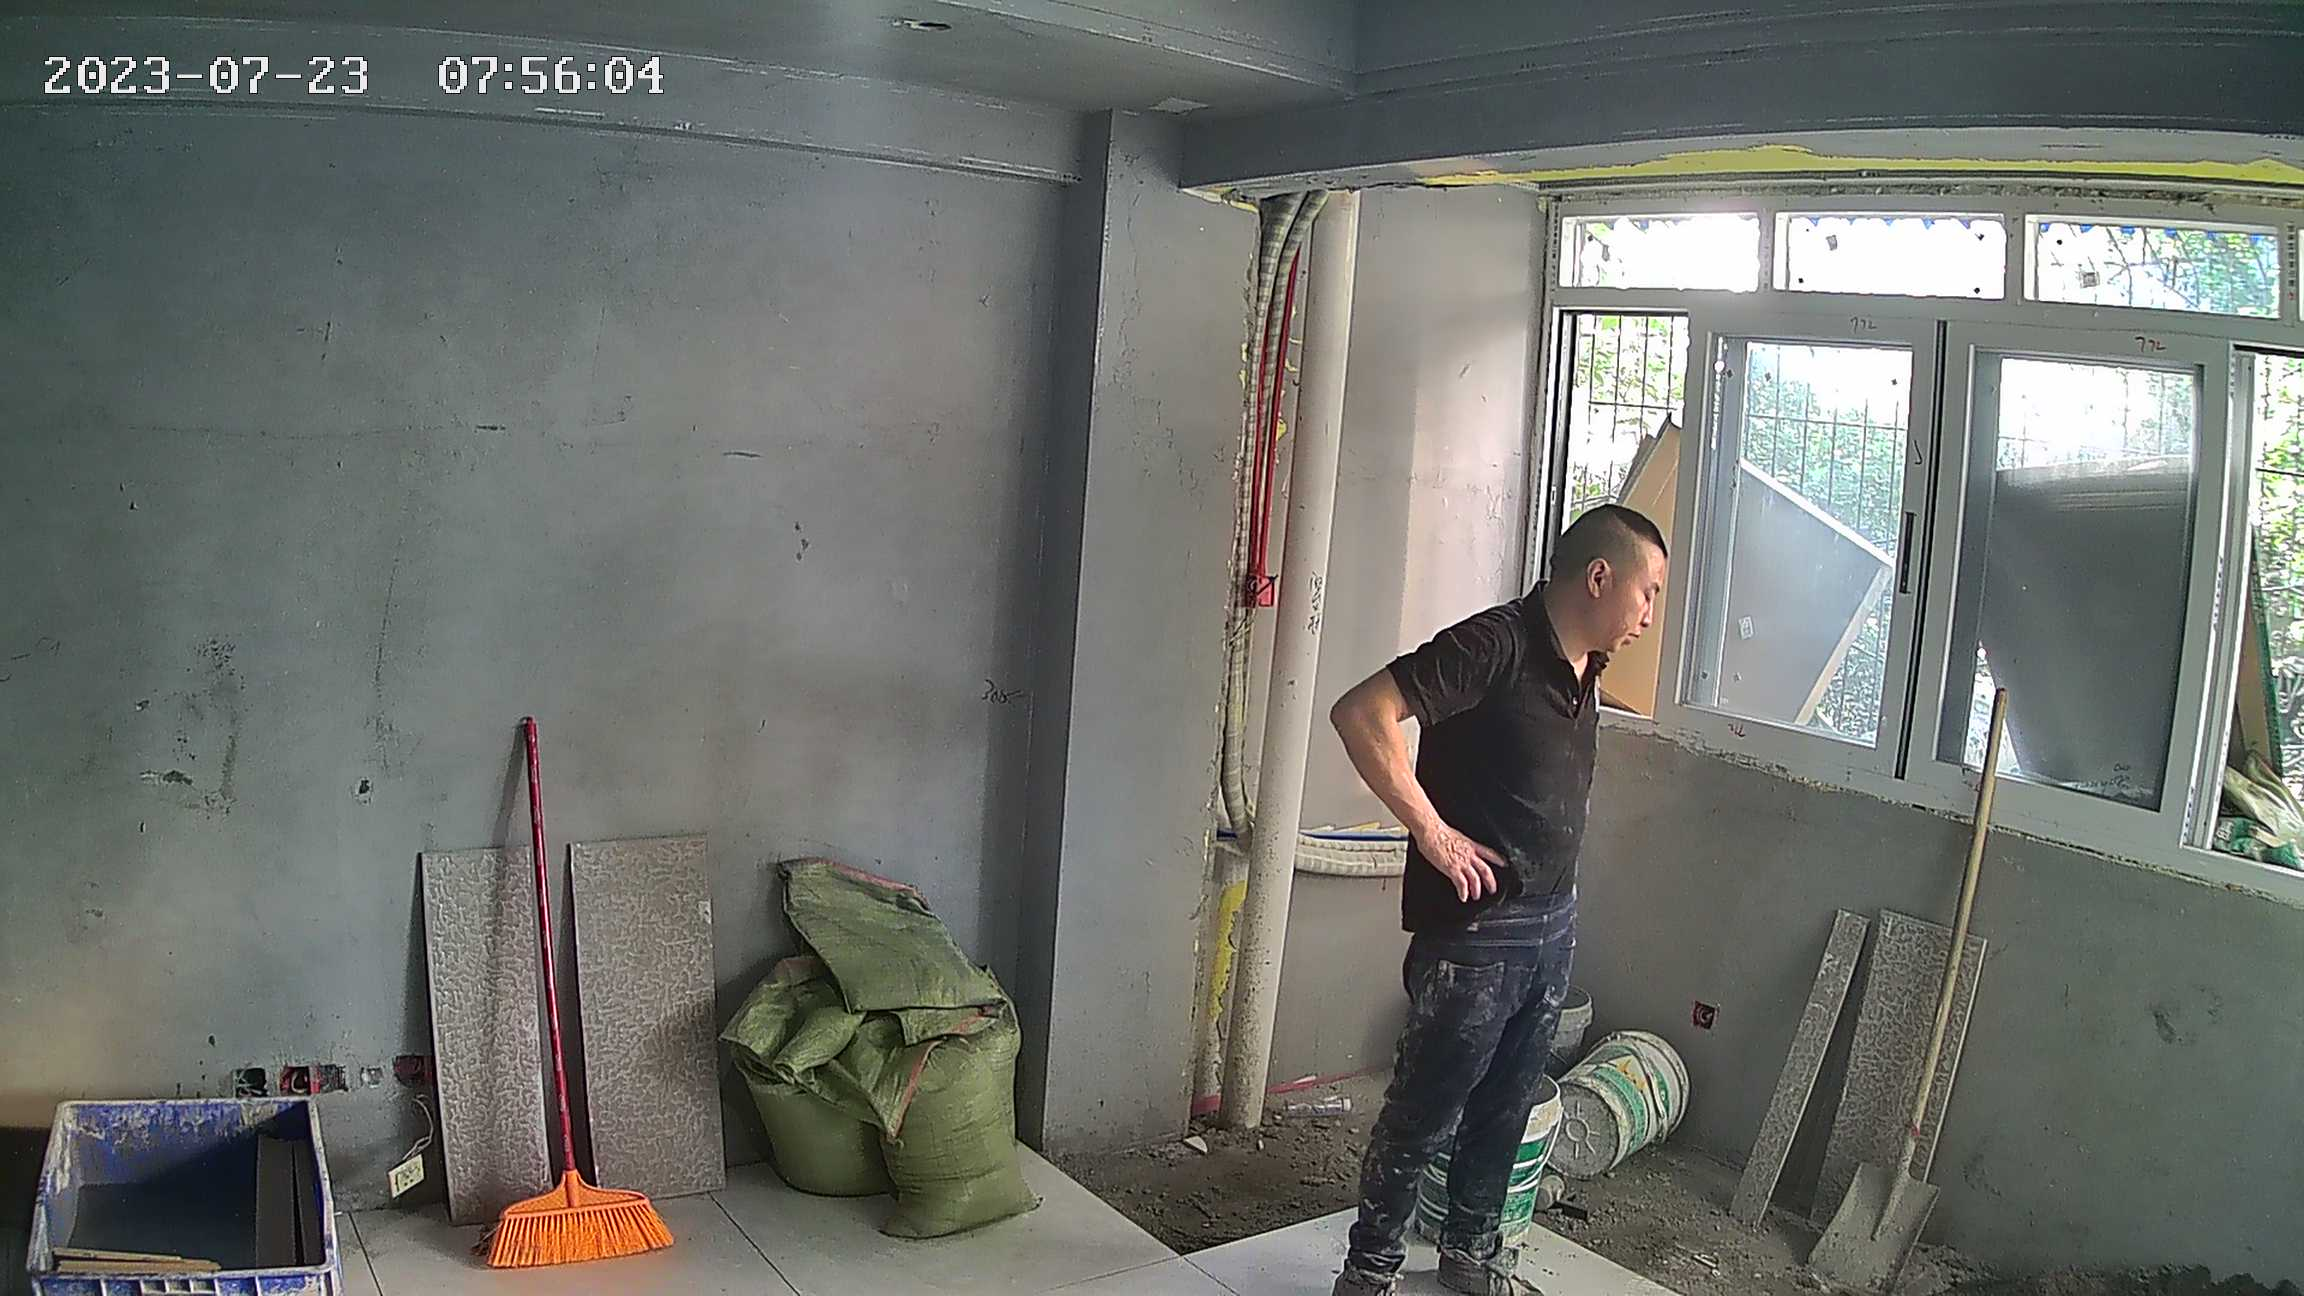people: (1330, 504, 1680, 1296)
window: (1560, 198, 2304, 857)
